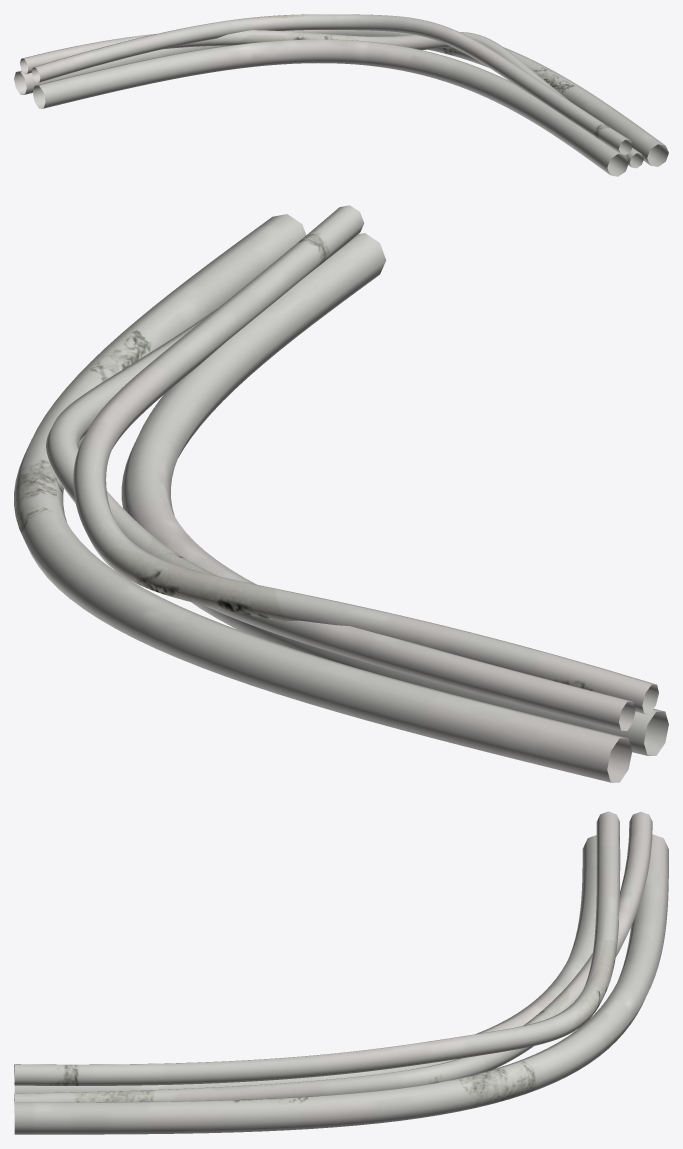
The model's file is WireTurnRight.fbx.
3 renders of one model, top to bottom at view 1: azimuth 30°, elevation 25°; view 2: azimuth 150°, elevation 25°; view 3: azimuth 270°, elevation 25°, orthographic. The views are drawn at different scales.
Visible parts, largest first — view 1: TurnRight; view 2: TurnRight; view 3: TurnRight.
Part boxes in pixels (x1,y1,x2,y2): TurnRight: [14, 14, 668, 176]; TurnRight: [14, 205, 668, 782]; TurnRight: [14, 811, 668, 1134].
Bounding box in the file's own units: 200 × 19.53 × 200.
Materials: 1 (1 with a texture image).
